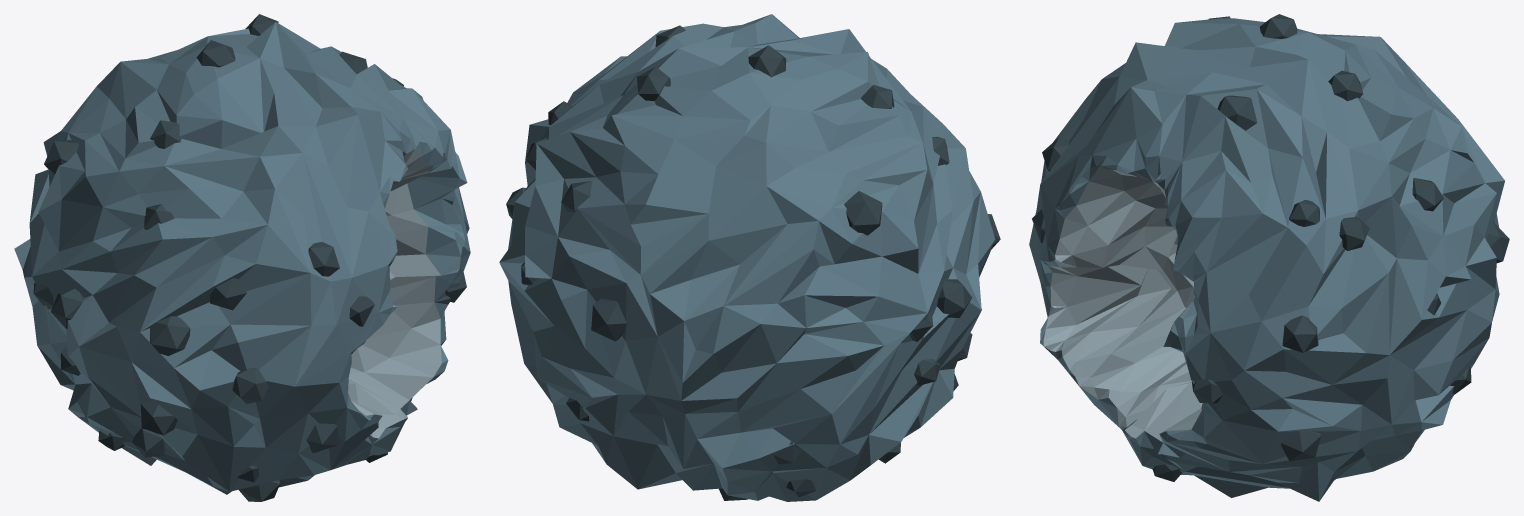
Rendered from RH_Planet.fbx.
3 views of the same model, side by side, from view 1: azimuth 30°, elevation 25°; view 2: azimuth 150°, elevation 25°; view 3: azimuth 270°, elevation 25° (orthographic). The views are drawn at different scales.
Parts seen in each view (by area): view 1: RH_Planet; view 2: RH_Planet; view 3: RH_Planet.
Part boxes in pixels (x1,y1,x2,y2): RH_Planet: (14, 14, 470, 501); RH_Planet: (499, 14, 1000, 501); RH_Planet: (1029, 14, 1509, 501).
Size of the model in its own units: 978 by 966 by 946.
Materials: 1 (1 with a texture image).
